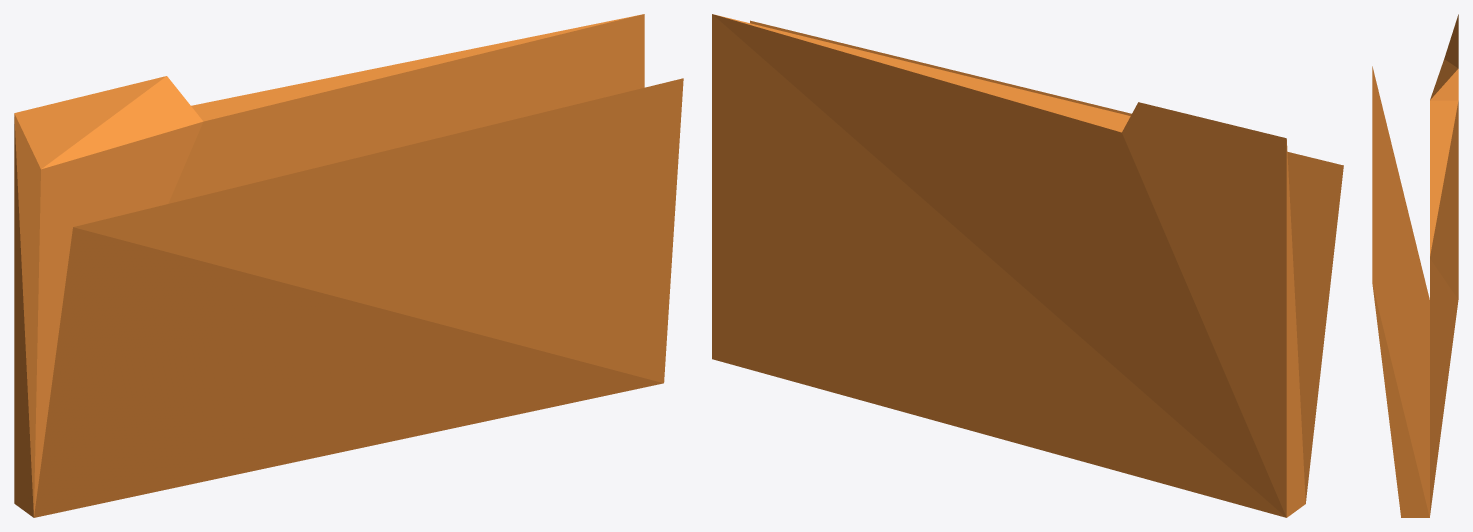
3 renders of one model, left to right at view 1: azimuth 30°, elevation 25°; view 2: azimuth 150°, elevation 25°; view 3: azimuth 270°, elevation 25°, orthographic. The views are drawn at different scales.
Visible parts, largest first — view 1: group381717428, group932501492; view 2: group932501492, group381717428; view 3: group381717428, group932501492.
Part boxes in pixels (<box>): group381717428: <box>34,78,683,517</box>; group932501492: <box>14,14,644,517</box>; group932501492: <box>712,14,1305,517</box>; group381717428: <box>750,20,1343,503</box>; group381717428: <box>1372,66,1429,517</box>; group932501492: <box>1430,14,1458,514</box>.
Bounding box in the file's own units: 0.18 × 0.11 × 0.03.
